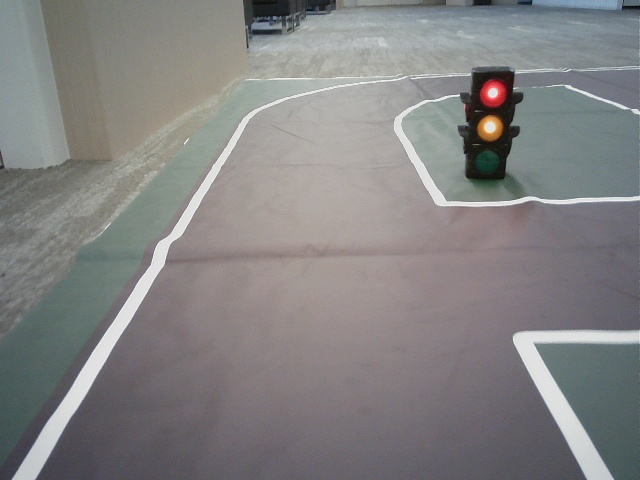red: (472, 71, 505, 174)
